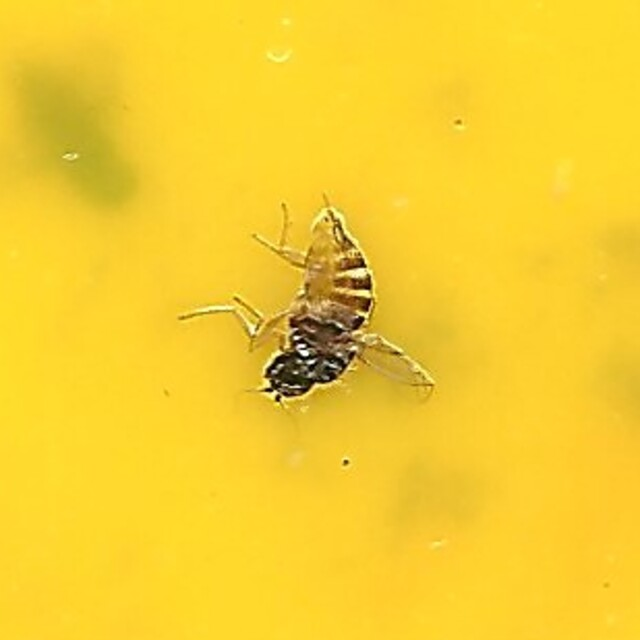Brachycera: (207, 200, 433, 440)
